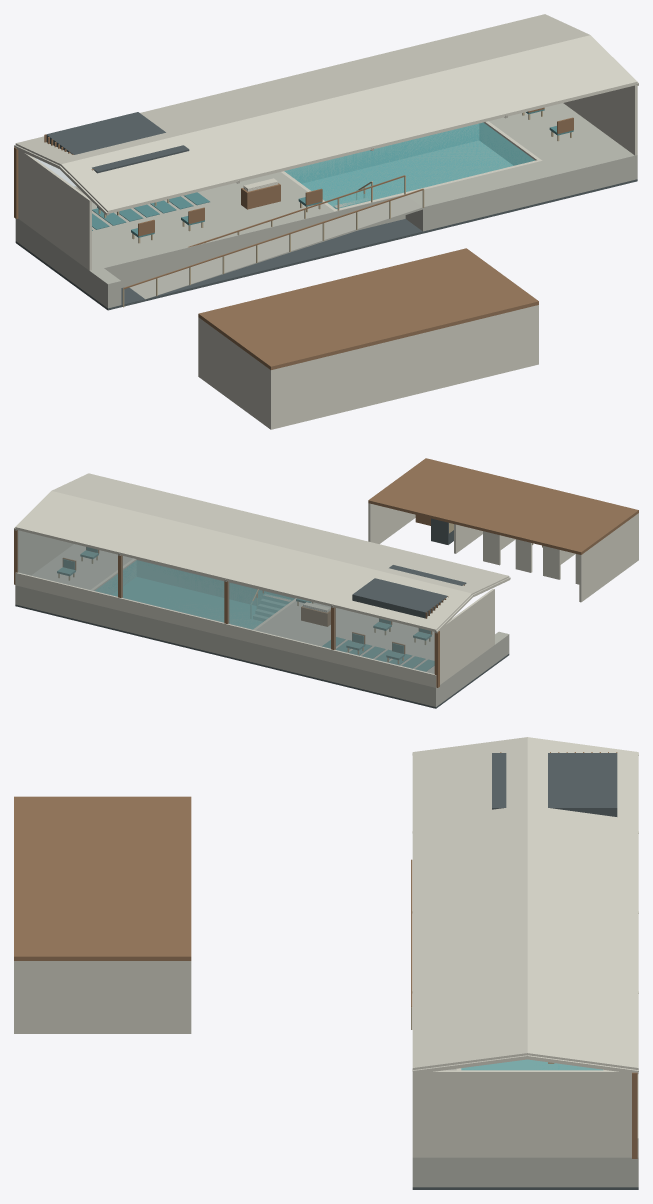
Rendered from VIP_TIDAL_r001.glb.
3 views of the same model, one above another, from view 1: azimuth 30°, elevation 25°; view 2: azimuth 150°, elevation 25°; view 3: azimuth 270°, elevation 25° (orthographic). The views are drawn at different scales.
Parts seen in each view (by area): view 1: G2VIP_TIDAL_RoofPanel1, G2VIP_TIDAL_AftRoof, G2VIP_TIDAL_AftBack, G2VIP_TIDAL_RoofPanel0, G2VIP_TIDAL_TerraceWest, G2VIP_TIDAL_Water_Illustrative, G2VIP_TIDAL_TerraceEast, G2VIP_TIDAL_TerraceAftLanding, G2VIP_TIDAL_VesselFloor, G2VIP_TIDAL_InnerWall, G2VIP_TIDAL_ArrivalRamp, G2VIP_TIDAL_BearingPad (+9 smaller); view 2: G2VIP_TIDAL_RoofPanel0, G2VIP_TIDAL_ForeClerestory, G2VIP_TIDAL_AftRoof, G2VIP_TIDAL_RoofPanel1, G2VIP_TIDAL_TerraceFore, G2VIP_TIDAL_Water_Illustrative, G2VIP_TIDAL_ForePlinth, G2VIP_TIDAL_TerraceWest, G2VIP_TIDAL_InnerWall, G2VIP_TIDAL_AftWest, G2VIP_TIDAL_OverheadPlantCasing, G2VIP_TIDAL_TerraceEast (+11 smaller); view 3: G2VIP_TIDAL_RoofPanel1, G2VIP_TIDAL_RoofPanel0, G2VIP_TIDAL_AftRoof, G2VIP_TIDAL_OuterWall, G2VIP_TIDAL_AftEast, G2VIP_TIDAL_TerraceEast, G2VIP_TIDAL_OverheadPlantCasing, G2VIP_TIDAL_Water_Illustrative, G2VIP_TIDAL_TerraceFore, G2VIP_TIDAL_VesselFloor, G2VIP_TIDAL_BearingPad.
Boxes of the visible parts, left/top/right/bottom form: G2VIP_TIDAL_RoofPanel1: left=61, top=35, right=637, bottom=213; G2VIP_TIDAL_AftRoof: left=198, top=248, right=538, bottom=369; G2VIP_TIDAL_AftBack: left=269, top=305, right=538, bottom=429; G2VIP_TIDAL_RoofPanel0: left=15, top=14, right=589, bottom=165; G2VIP_TIDAL_TerraceWest: left=28, top=172, right=334, bottom=294; G2VIP_TIDAL_Water_Illustrative: left=284, top=122, right=534, bottom=208; G2VIP_TIDAL_TerraceEast: left=489, top=103, right=637, bottom=197; G2VIP_TIDAL_TerraceAftLanding: left=405, top=161, right=560, bottom=231; G2VIP_TIDAL_VesselFloor: left=302, top=141, right=512, bottom=206; G2VIP_TIDAL_InnerWall: left=18, top=150, right=91, bottom=270; G2VIP_TIDAL_ArrivalRamp: left=129, top=195, right=422, bottom=299; G2VIP_TIDAL_BearingPad: left=15, top=179, right=637, bottom=310; G2VIP_TIDAL_RoofPanel0: left=15, top=491, right=471, bottom=631; G2VIP_TIDAL_ForeClerestory: left=17, top=530, right=434, bottom=673; G2VIP_TIDAL_AftRoof: left=368, top=458, right=638, bottom=554; G2VIP_TIDAL_RoofPanel1: left=51, top=473, right=509, bottom=594; G2VIP_TIDAL_TerraceFore: left=15, top=585, right=445, bottom=706; G2VIP_TIDAL_Water_Illustrative: left=95, top=560, right=294, bottom=629; G2VIP_TIDAL_ForePlinth: left=15, top=572, right=436, bottom=687; G2VIP_TIDAL_TerraceWest: left=256, top=601, right=495, bottom=699; G2VIP_TIDAL_InnerWall: left=440, top=589, right=494, bottom=684; G2VIP_TIDAL_AftWest: left=579, top=514, right=637, bottom=602; G2VIP_TIDAL_OverheadPlantCasing: left=352, top=565, right=466, bottom=618; G2VIP_TIDAL_TerraceEast: left=31, top=544, right=132, bottom=589; G2VIP_TIDAL_RoofPanel1: left=412, top=737, right=527, bottom=1069; G2VIP_TIDAL_RoofPanel0: left=527, top=737, right=638, bottom=1069; G2VIP_TIDAL_AftRoof: left=14, top=796, right=191, bottom=960; G2VIP_TIDAL_OuterWall: left=412, top=1070, right=631, bottom=1157; G2VIP_TIDAL_AftEast: left=17, top=961, right=191, bottom=1033; G2VIP_TIDAL_TerraceEast: left=412, top=1157, right=607, bottom=1187; G2VIP_TIDAL_OverheadPlantCasing: left=492, top=753, right=617, bottom=816; G2VIP_TIDAL_Water_Illustrative: left=461, top=1059, right=602, bottom=1070; G2VIP_TIDAL_TerraceFore: left=608, top=1157, right=638, bottom=1187; G2VIP_TIDAL_VesselFloor: left=461, top=1059, right=601, bottom=1069; G2VIP_TIDAL_BearingPad: left=412, top=1187, right=638, bottom=1189.
Size of the model in its own units: 31.84 by 6.38 by 26.41.
